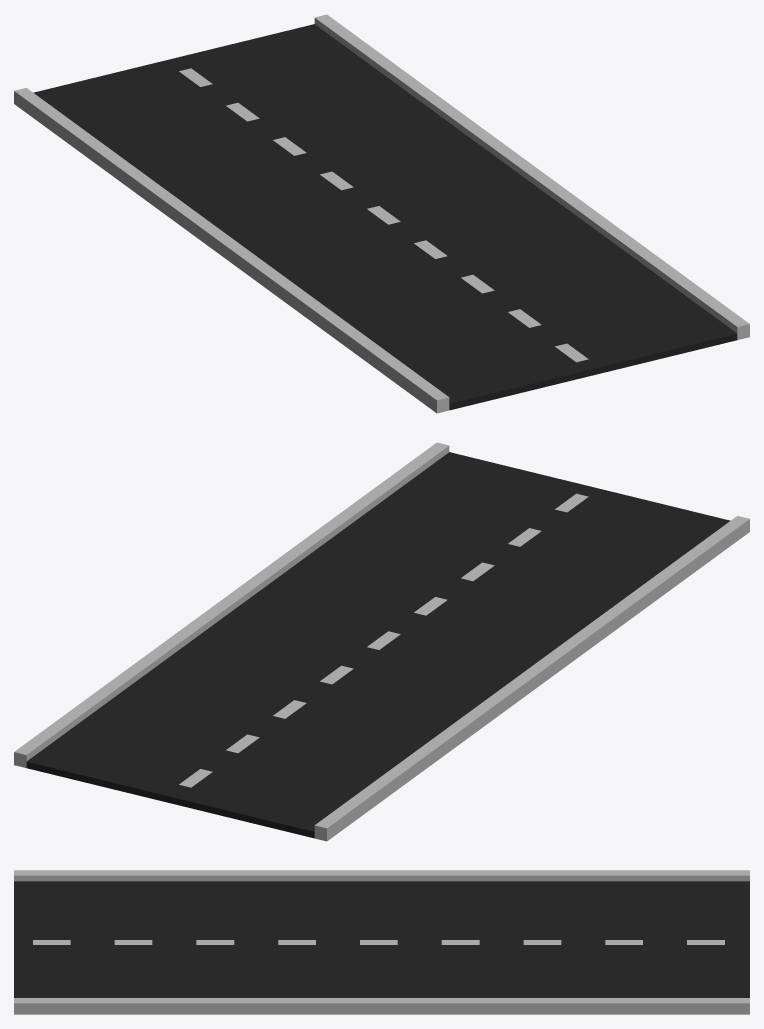
File: All-24-Road_5m.obj
3 views of the same model, one above another, from view 1: azimuth 30°, elevation 25°; view 2: azimuth 150°, elevation 25°; view 3: azimuth 270°, elevation 25° (orthographic). The views are drawn at different scales.
Visible parts, largest first — view 1: Road_5m; view 2: Road_5m; view 3: Road_5m.
Part boxes in pixels (<box>): Road_5m: <box>14,14,749,413</box>; Road_5m: <box>14,442,749,841</box>; Road_5m: <box>14,870,749,1014</box>.
Bounding box in the file's own units: 5 × 0.2 × 11.7.
1 material, 1 textured.
